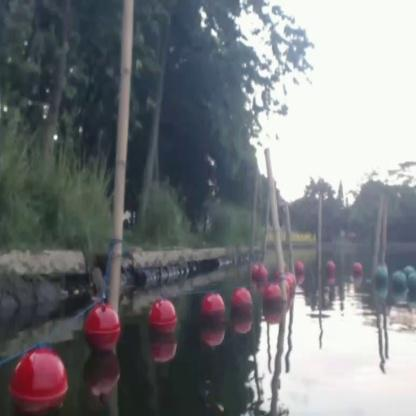green_buoy: (392, 269, 408, 297), (374, 266, 388, 290), (409, 274, 415, 300)
red_buoy: (11, 349, 69, 415), (86, 301, 117, 352), (148, 300, 180, 338), (198, 290, 226, 331), (264, 284, 284, 322), (232, 288, 252, 324), (255, 264, 268, 283), (286, 274, 296, 296), (352, 261, 364, 279), (294, 258, 304, 278), (326, 260, 335, 278)
